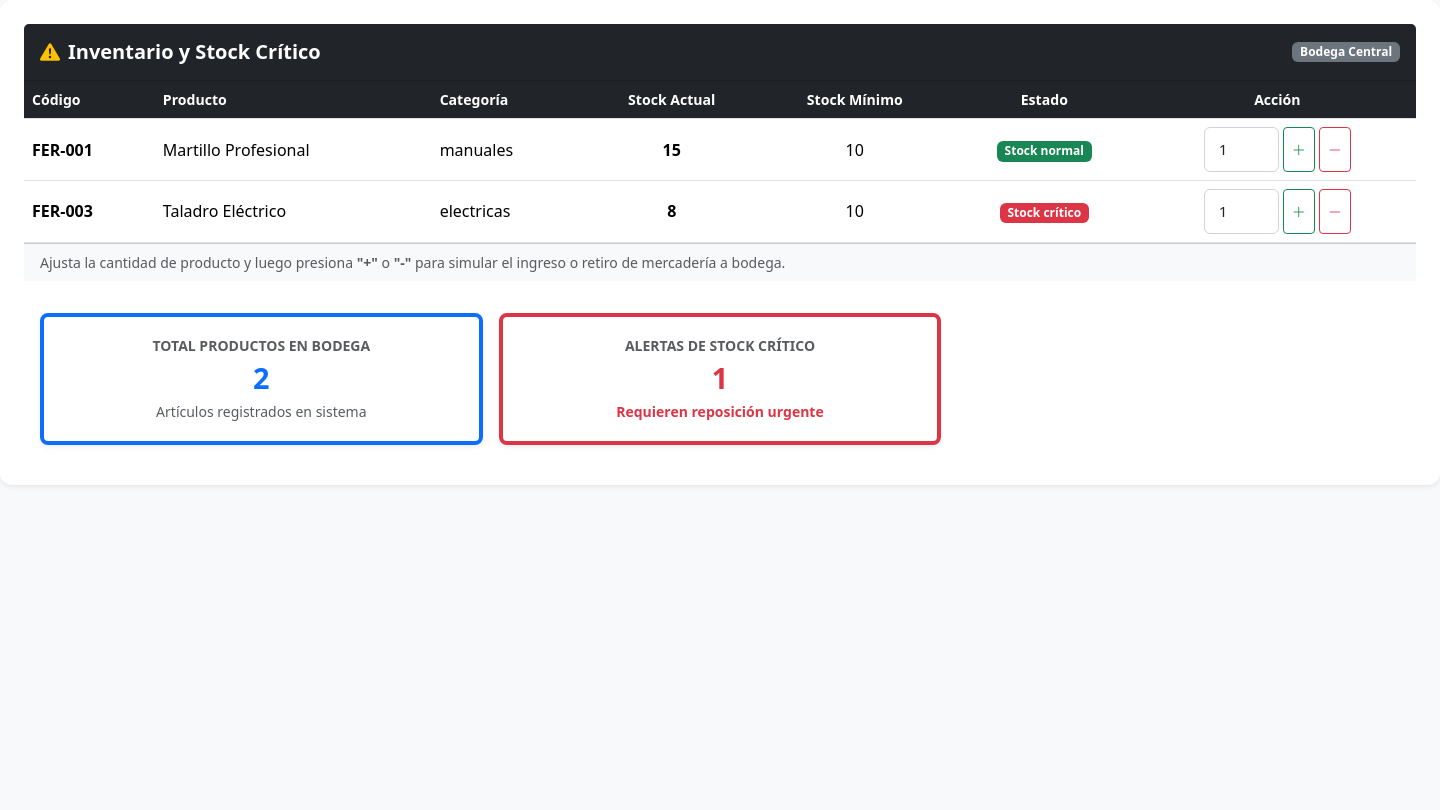
Test case: ControlStockAdmin › agrega unidades de stock y persiste el cambio
The width and height of the screenshot is (1440, 810).
Replace the text in the number field in the row of "FER-001" with "3" at coordinates (1241, 150), box [1204,127,1279,172]
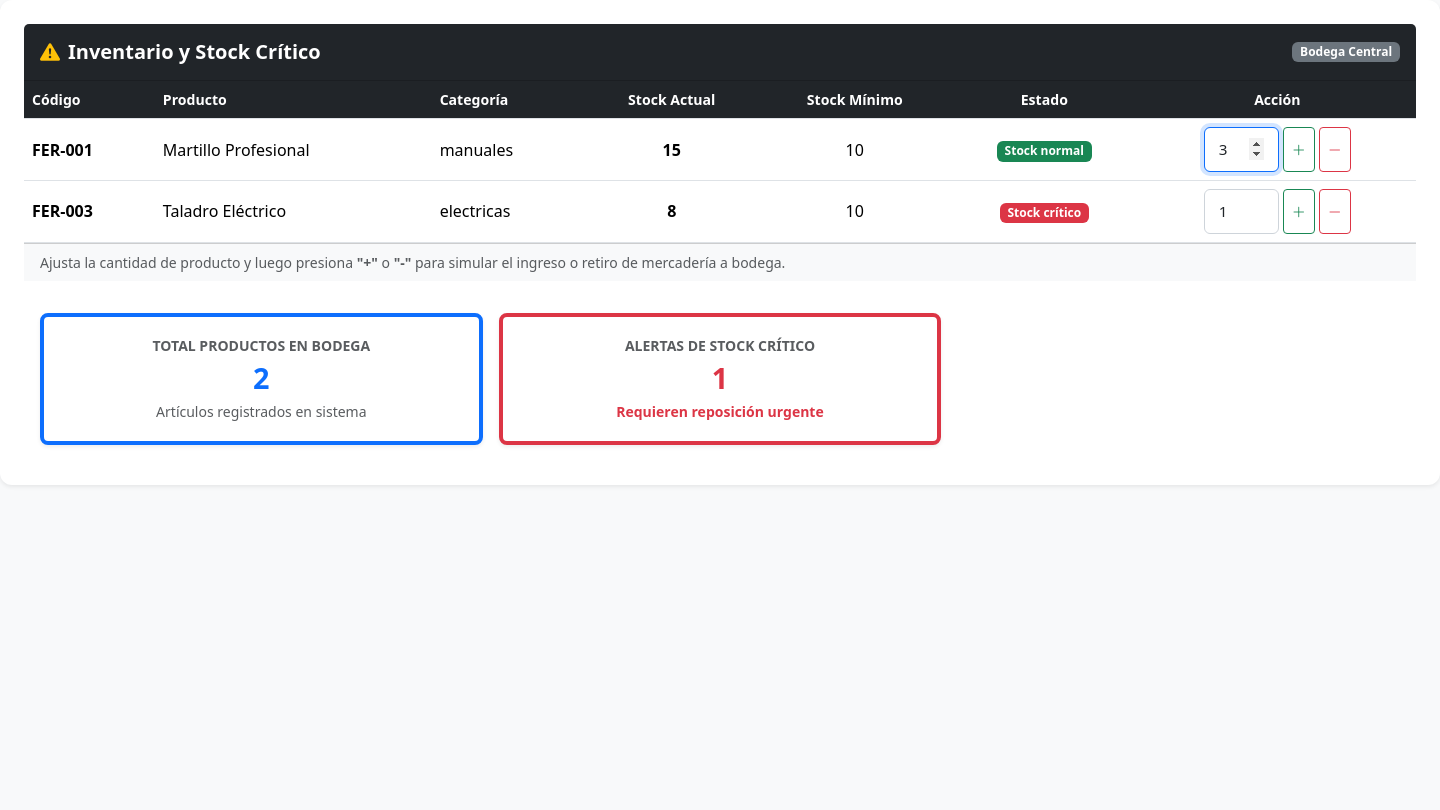
Click the button named "Agregar unidades" in the row of "FER-001" at coordinates (1299, 150), box [1283,127,1315,172]
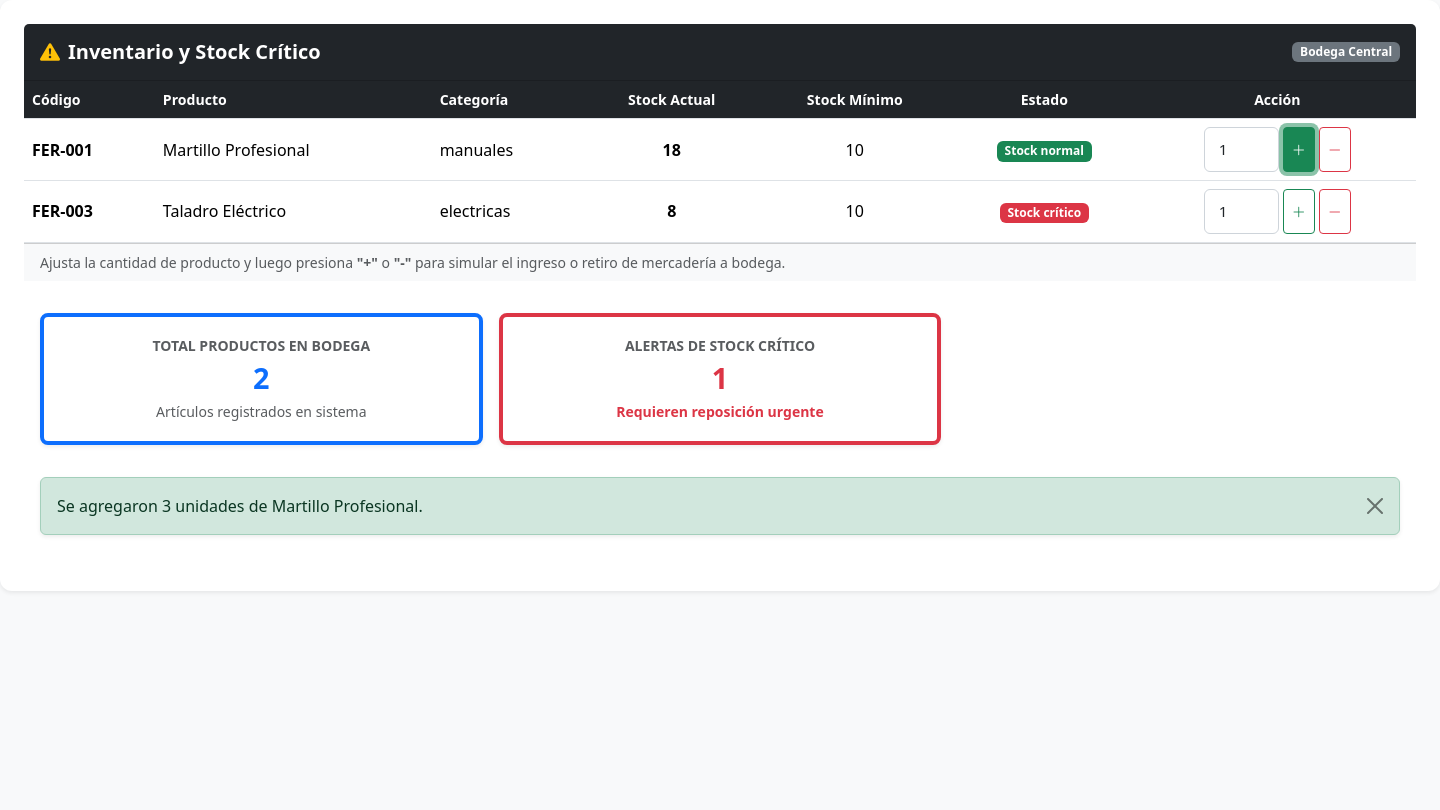
Expected: the text "Se agregaron 3 unidades de Martillo Profesional." is shown, [57,495,423,517]
